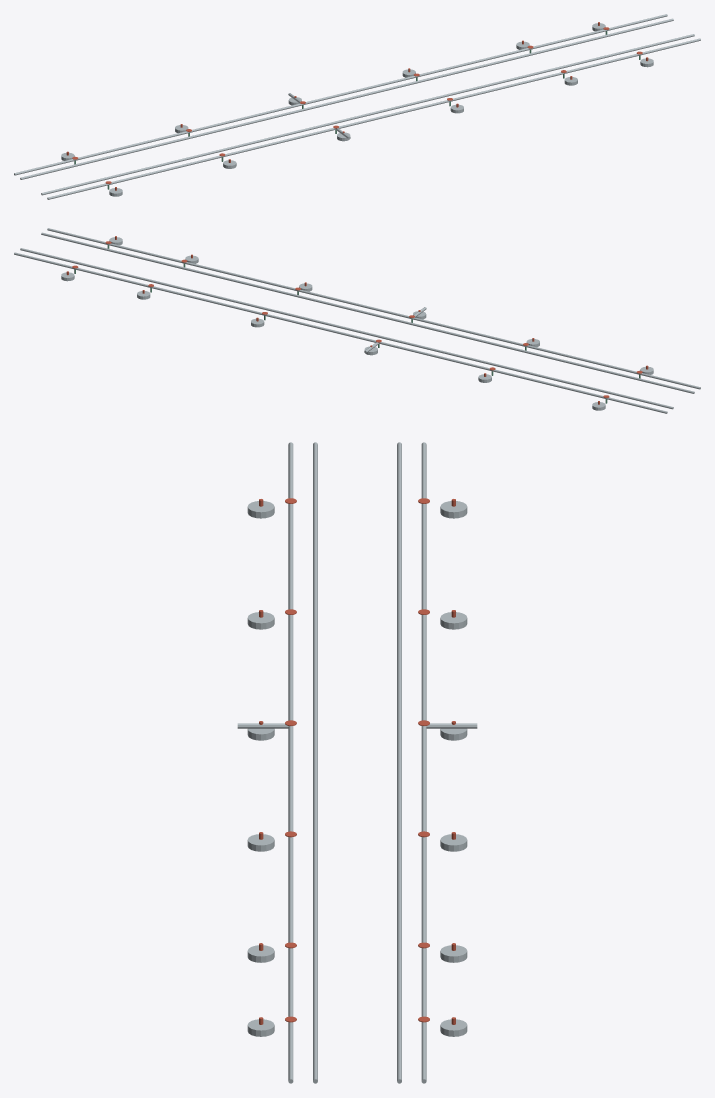
File: tanker_deck_pipes.glb
The picture shows the model from 3 angles, top to bottom: view 1: azimuth 30°, elevation 25°; view 2: azimuth 150°, elevation 25°; view 3: azimuth 270°, elevation 25°; orthographic projection. The views are drawn at different scales.
Visible parts, largest first — view 1: VisibleGeometry; view 2: VisibleGeometry; view 3: VisibleGeometry.
Boxes of the visible parts, x1=… form: VisibleGeometry: x1=14, y1=14, x2=700, y2=199; VisibleGeometry: x1=14, y1=228, x2=700, y2=413; VisibleGeometry: x1=237, y1=442, x2=477, y2=1083.
Bounding box in the file's own units: 86 × 0.93 × 13.68.
